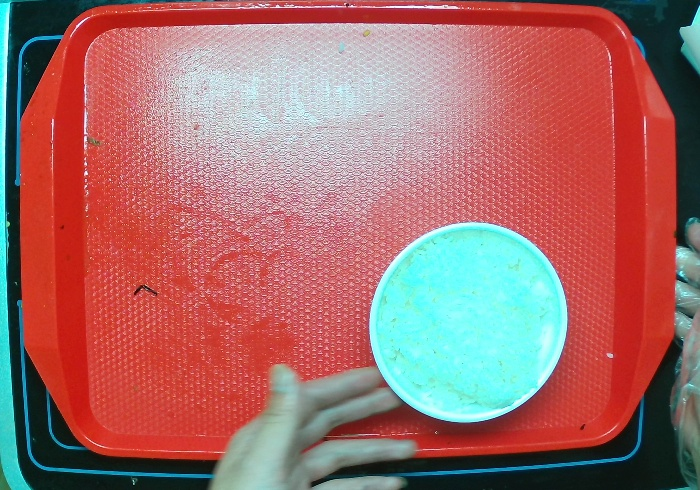YKMZ-Fan_Wan: (362, 221, 572, 425)
